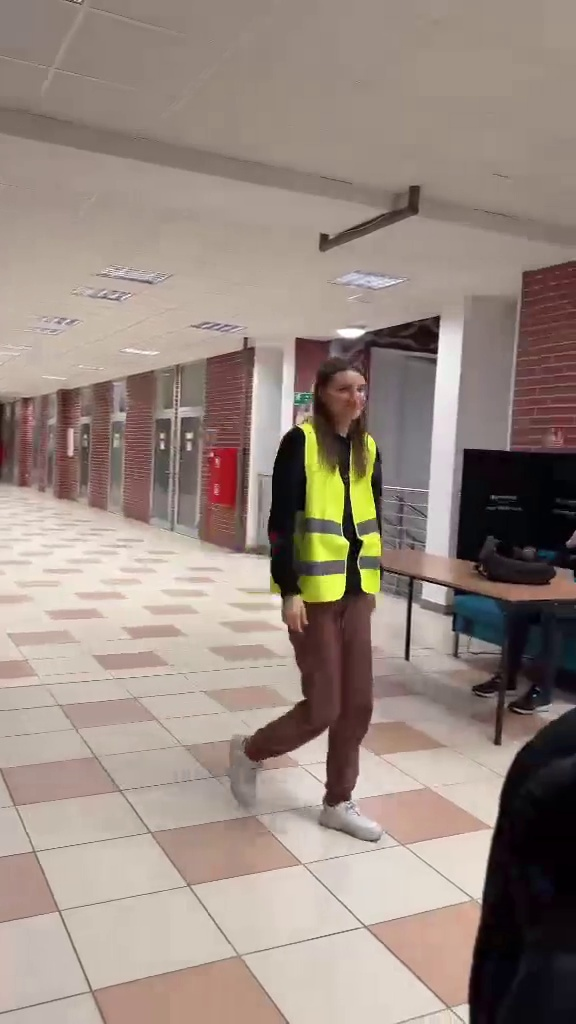vest: (237, 353, 387, 840)
